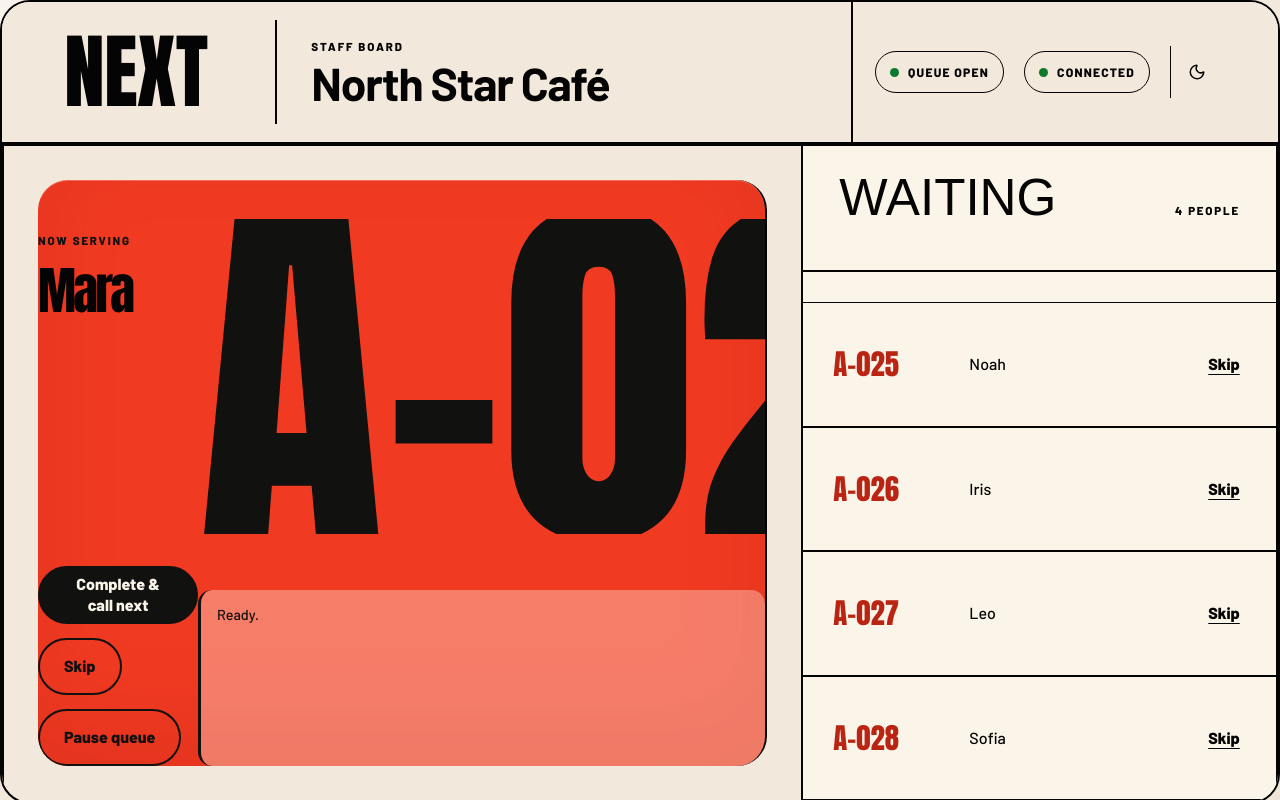
Test: StaffPrototype › pauses and reopens the queue
The width and height of the screenshot is (1280, 800).
Click the button "Pause queue" at coordinates (110, 738), box [38,709,181,766]
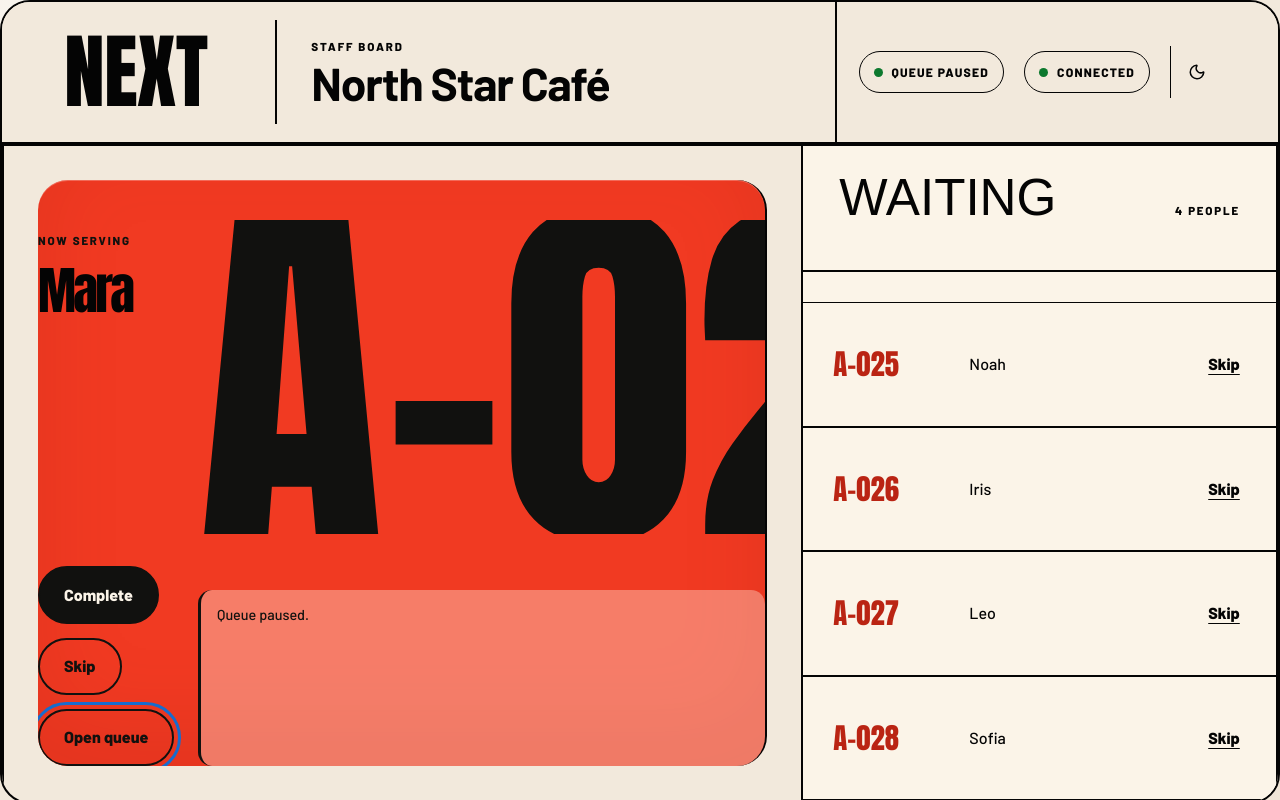
Result: the text "Queue paused" is shown at [858,51,1004,93]
Click the button "Open queue" at coordinates (106, 737), box [38,709,174,766]
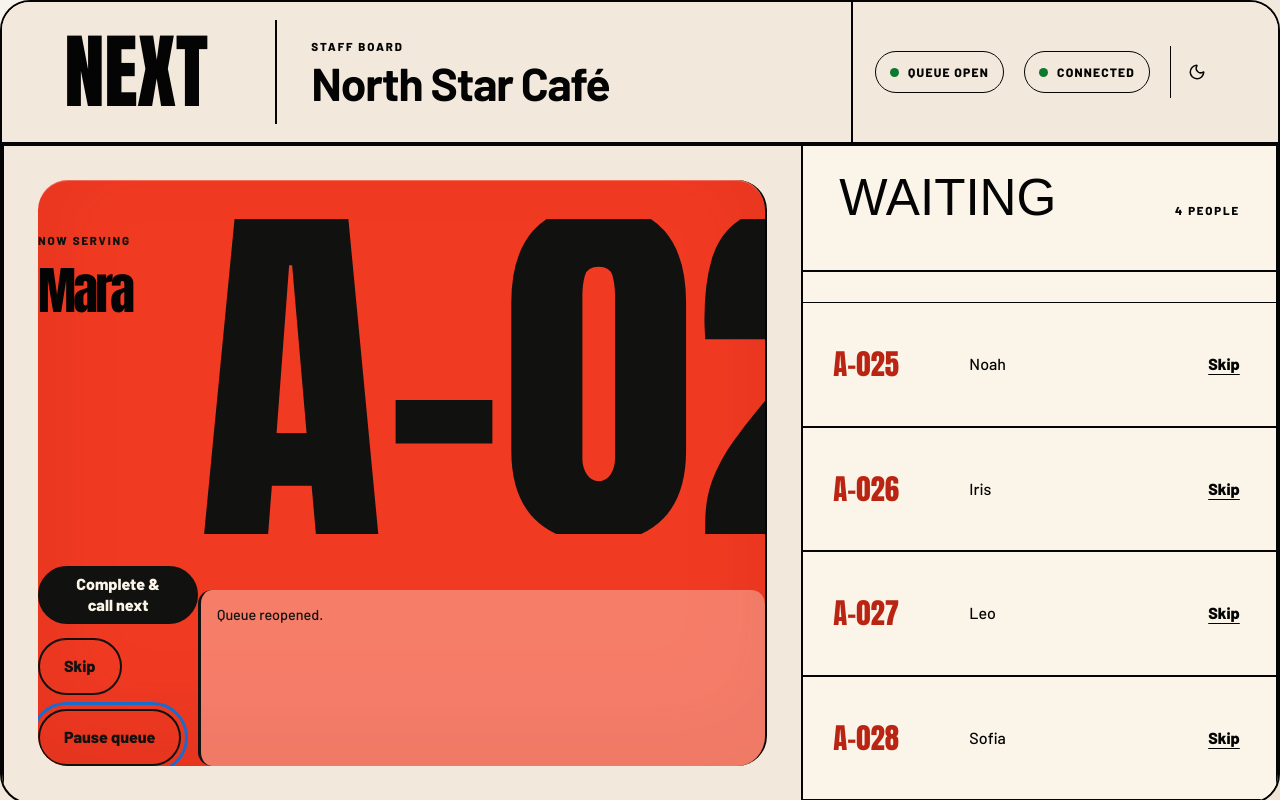
Result: the text "Queue open" is shown at [875,51,1004,93]
